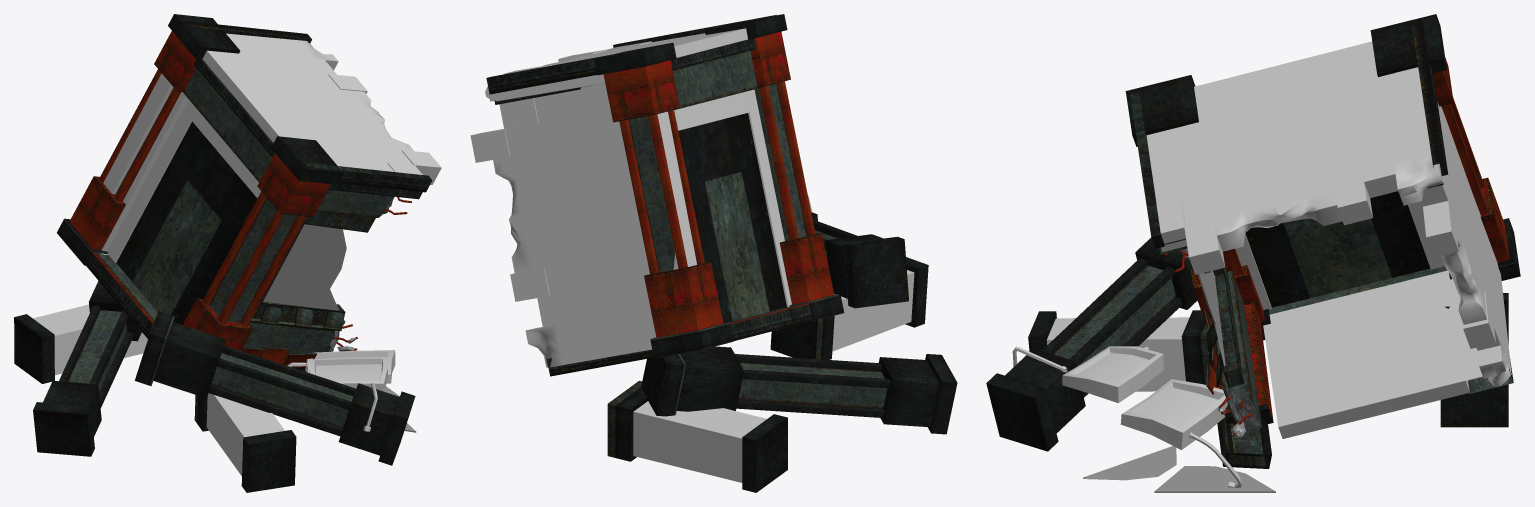
The model's file is Regie@gaucheSol.FBX.
The picture shows the model from 3 angles, left to right: view 1: azimuth 30°, elevation 25°; view 2: azimuth 150°, elevation 25°; view 3: azimuth 270°, elevation 25°; orthographic projection. The views are drawn at different scales.
Visible parts, largest first — view 1: TierGauche; view 2: TierGauche; view 3: TierGauche.
Boxes of the visible parts, x1=… form: TierGauche: x1=14, y1=14, x2=441, y2=492; TierGauche: x1=470, y1=14, x2=957, y2=492; TierGauche: x1=986, y1=14, x2=1520, y2=492.
Bounding box in the file's own units: 974 × 842 × 988.
